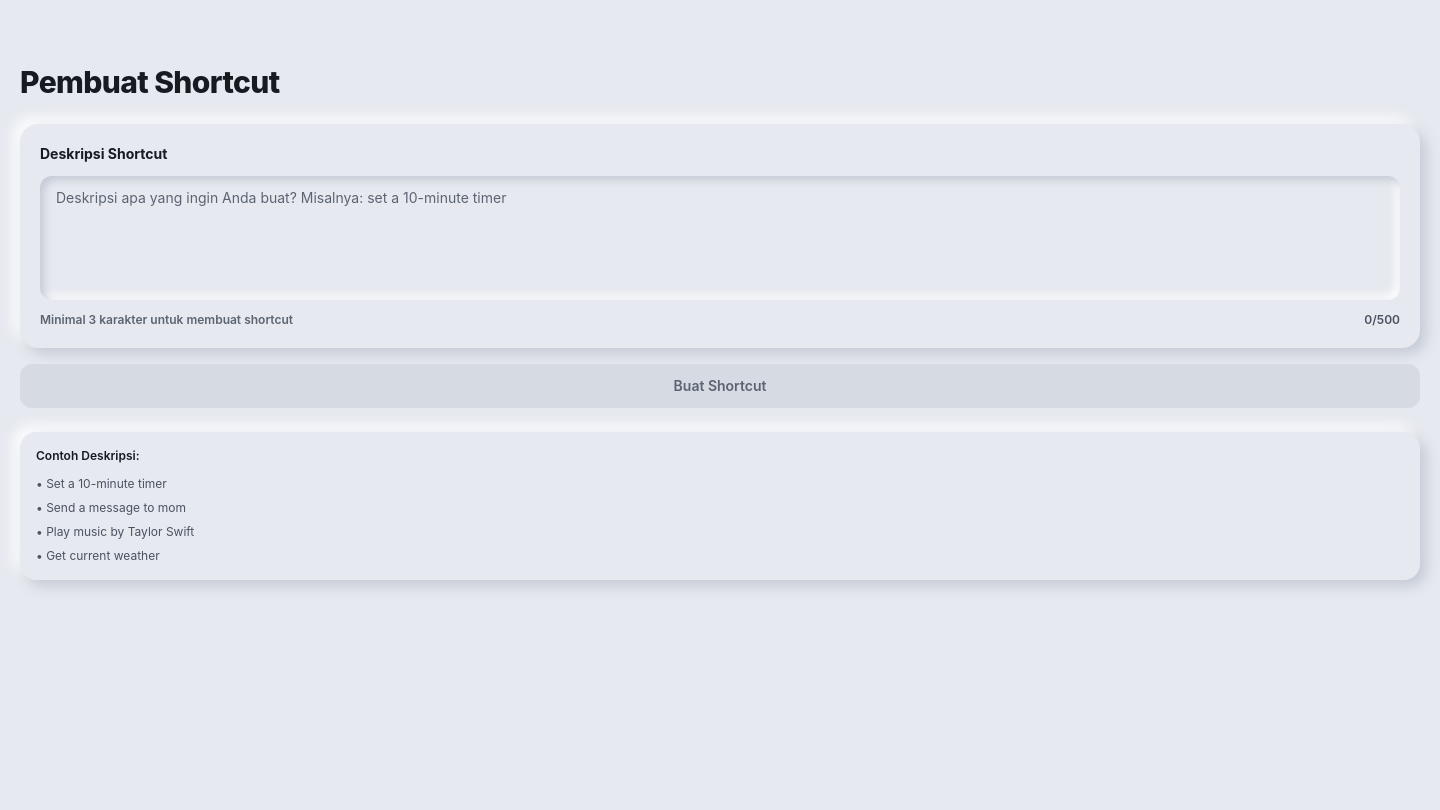
ShortcutsScreen - E2E Frontend Tests › 1. Happy Path: Valid Shortcut Generation › lists the rebuild steps so the shortcut can be recreated by hand
Type "timer lalu beri tahu" into the text box with placeholder "Deskripsi apa" at (720, 238), box [40,176,1400,300]
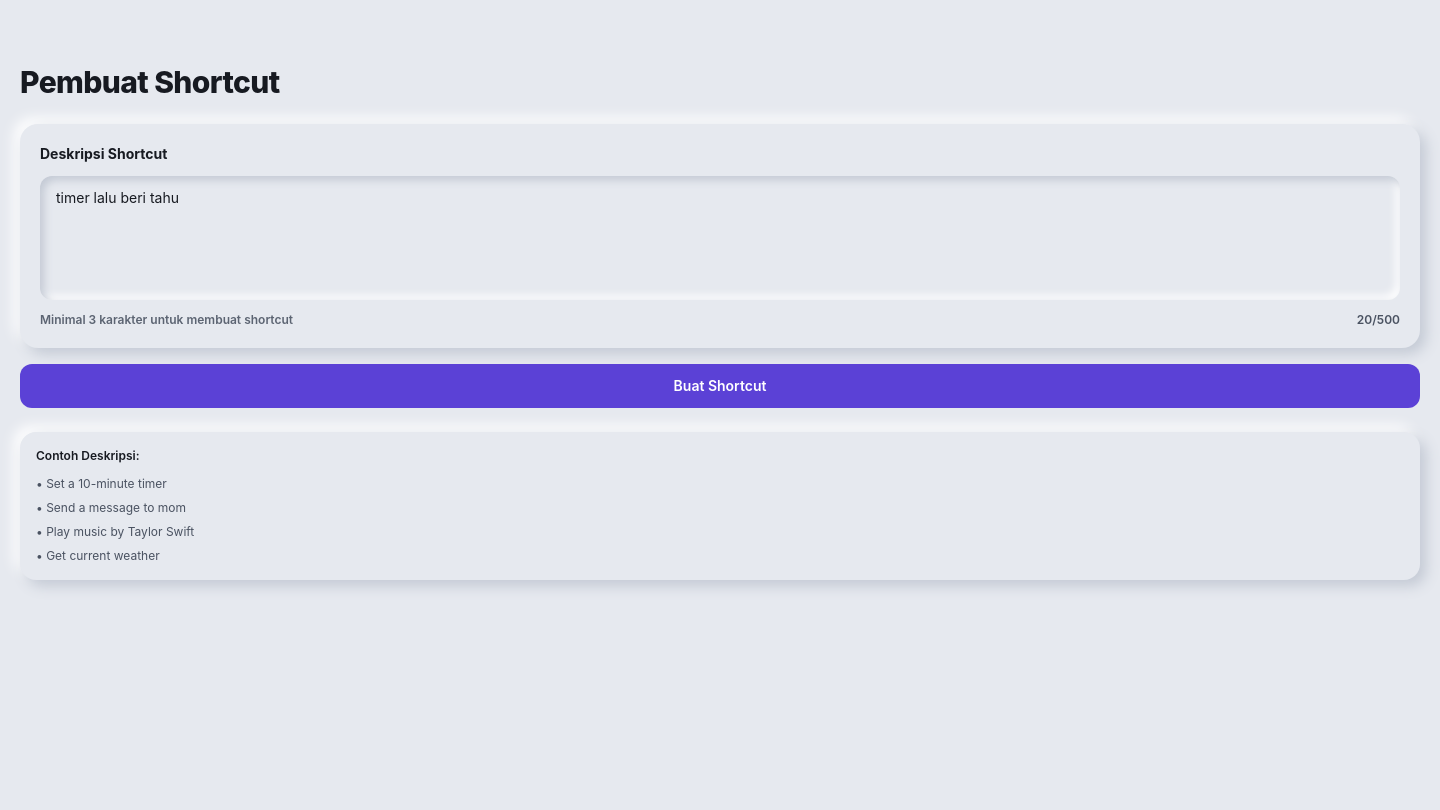
Click the button "Buat Shortcut" at (720, 386), box [20,364,1420,408]
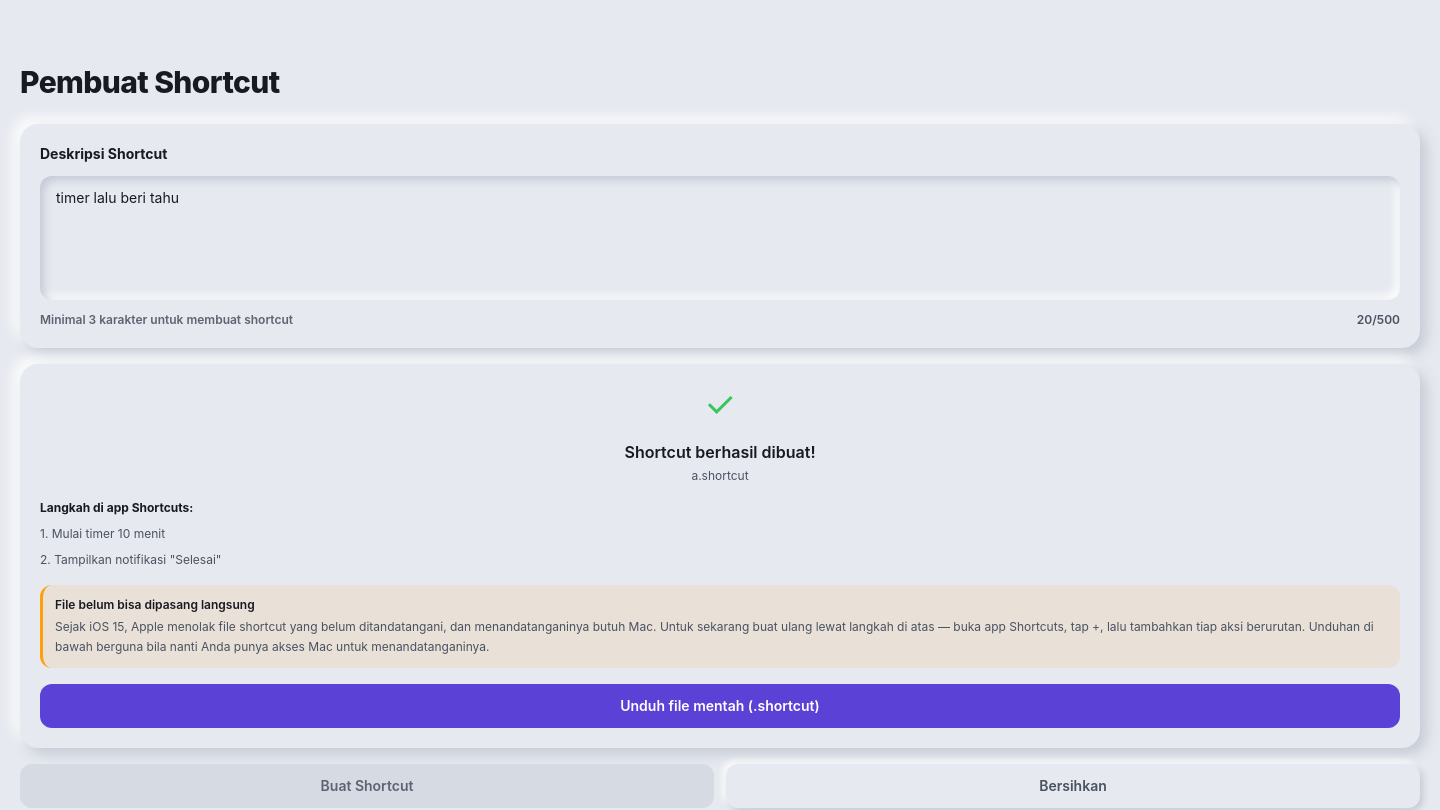
Result: the list item "1. Mulai timer 10 menit" is shown at [40,526,165,541]
Result: the list item "2. Tampilkan notifikasi \"Selesai\"" is shown at [40,552,221,566]
